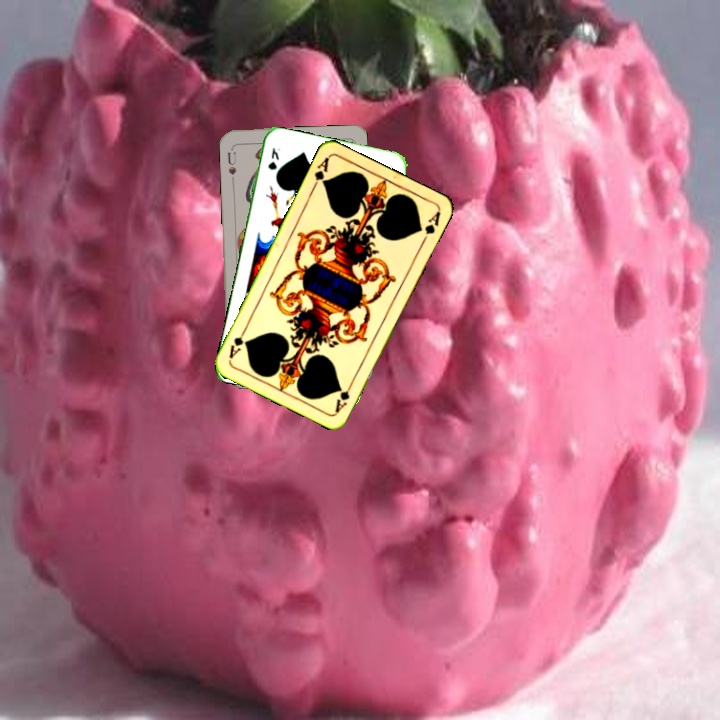GA: (331, 377, 356, 415), (308, 154, 331, 192)
GK: (264, 144, 282, 172)
SU: (224, 143, 239, 184)
